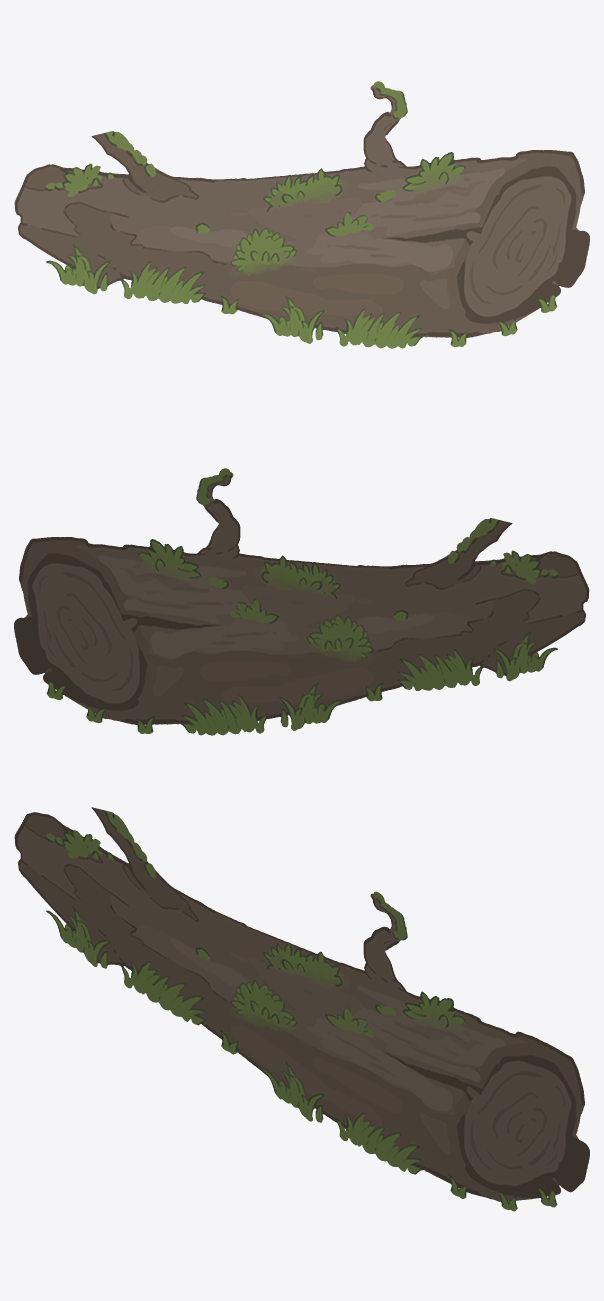
The model's file is Mesh_Adventure_Forest_Variant_Flowers_02.fbx.
3 renders of one model, top to bottom at view 1: azimuth 30°, elevation 25°; view 2: azimuth 150°, elevation 25°; view 3: azimuth 330°, elevation 25°, orthographic.
Parts seen in each view (by area): view 1: Mesh_Adventure_Forest_Variant_Flowers_02; view 2: Mesh_Adventure_Forest_Variant_Flowers_02; view 3: Mesh_Adventure_Forest_Variant_Flowers_02.
Part boxes in pixels (left/top/right/bottom): Mesh_Adventure_Forest_Variant_Flowers_02: left=14, top=81, right=589, bottom=348; Mesh_Adventure_Forest_Variant_Flowers_02: left=14, top=468, right=589, bottom=735; Mesh_Adventure_Forest_Variant_Flowers_02: left=14, top=807, right=589, bottom=1211.
Bounding box in the file's own units: 100 × 59.39 × 0.
